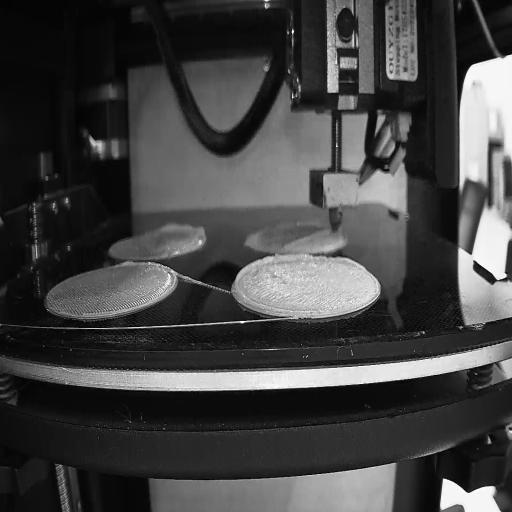over_extrusion: (234, 256, 309, 317), (286, 226, 332, 249), (334, 252, 366, 271), (158, 222, 194, 236), (118, 258, 142, 269)
